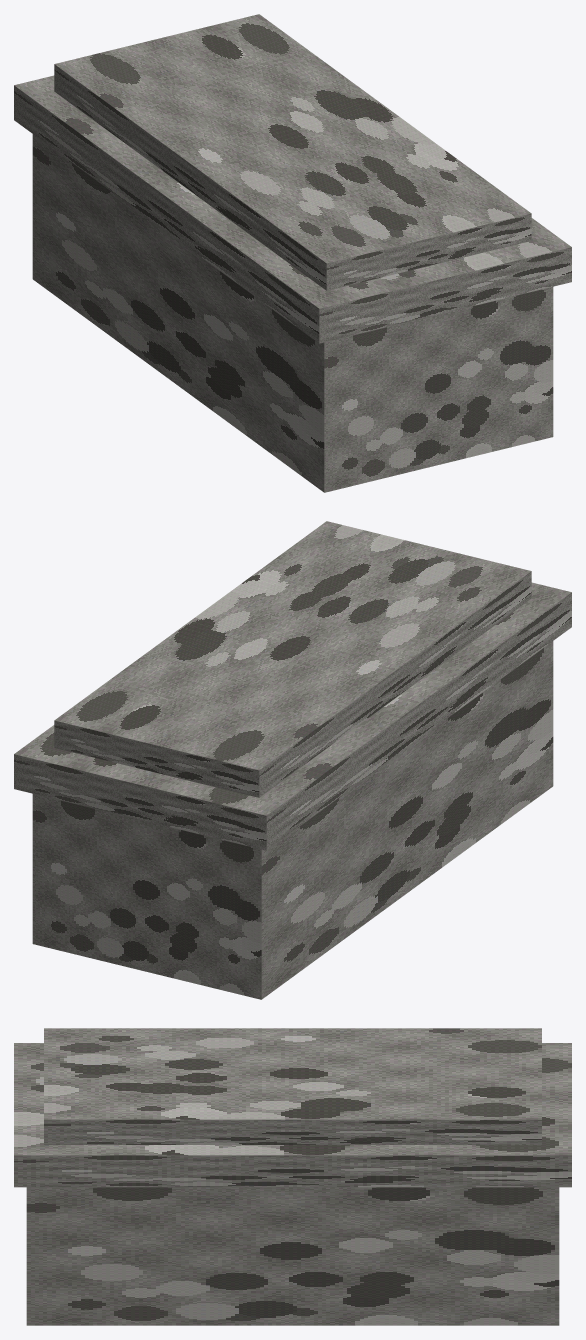
The model's file is catacumba_sarcofago.glb.
3 views of the same model, one above another, from view 1: azimuth 30°, elevation 25°; view 2: azimuth 150°, elevation 25°; view 3: azimuth 270°, elevation 25° (orthographic). The views are drawn at different scales.
Parts seen in each view (by area): view 1: catacumba_sarcofago; view 2: catacumba_sarcofago; view 3: catacumba_sarcofago.
Part boxes in pixels (x1,y1,x2,y2): catacumba_sarcofago: (14,14,571,492); catacumba_sarcofago: (14,521,571,999); catacumba_sarcofago: (14,1028,571,1325).
Size of the model in its own units: 1.06 by 0.88 by 2.22.
1 material, 1 textured.
